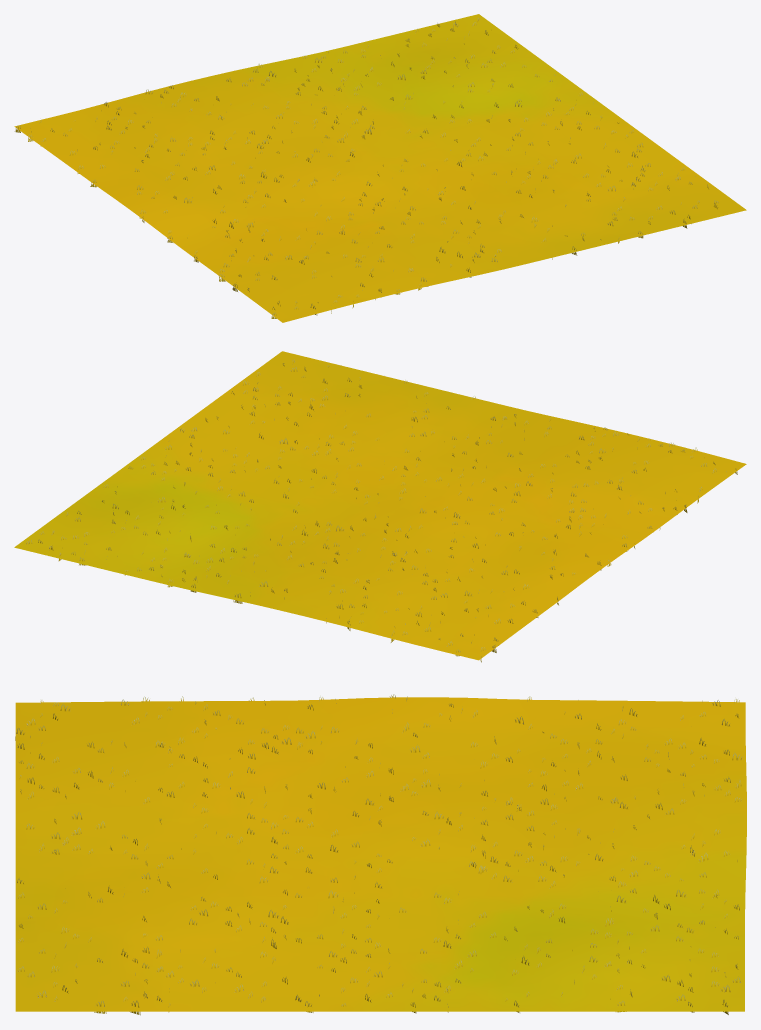
The model's file is Grass2.fbx.
3 renders of one model, top to bottom at view 1: azimuth 30°, elevation 25°; view 2: azimuth 150°, elevation 25°; view 3: azimuth 270°, elevation 25°, orthographic. The views are drawn at different scales.
Parts seen in each view (by area): view 1: Plane.002; view 2: Plane.002; view 3: Plane.002.
Part boxes in pixels (box(x1,y1,x2,y2)): Plane.002: box(14, 14, 746, 322); Plane.002: box(14, 351, 746, 660); Plane.002: box(15, 697, 746, 1011).
Size of the model in its own units: 8390 by 270 by 8371.
Materials: 1 (1 with a texture image).
